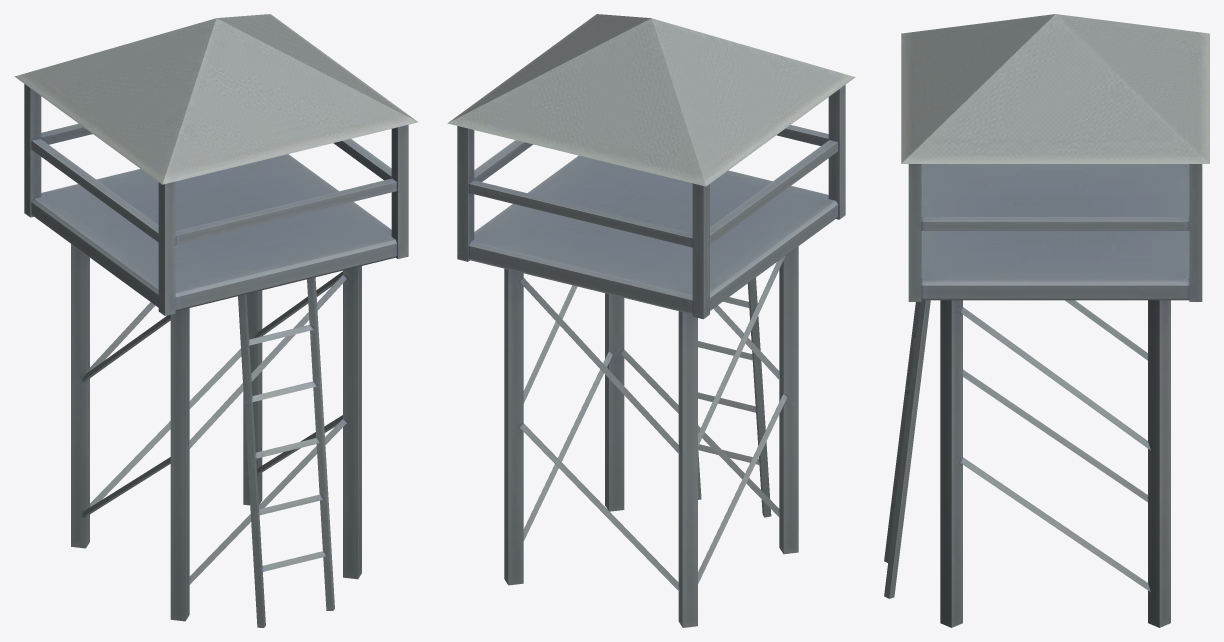
The model's file is watchtower-1-age20.glb.
The picture shows the model from 3 angles, left to right: view 1: azimuth 30°, elevation 25°; view 2: azimuth 150°, elevation 25°; view 3: azimuth 270°, elevation 25°; orthographic projection. The views are drawn at different scales.
Parts seen in each view (by area): view 1: watchtower-1-age20; view 2: watchtower-1-age20; view 3: watchtower-1-age20.
Boxes of the visible parts, left/top/right/bottom form: watchtower-1-age20: left=14, top=14, right=417, bottom=627; watchtower-1-age20: left=447, top=14, right=855, bottom=627; watchtower-1-age20: left=884, top=14, right=1209, bottom=627.
Bounding box in the file's own units: 0.594 × 1.2 × 0.6269.
Materials: 1 (1 with a texture image).
